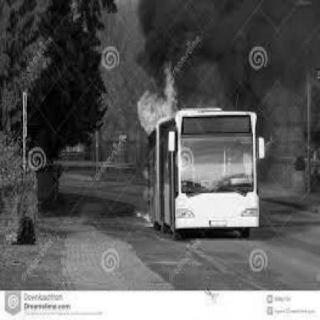Fire: (128, 64, 190, 132)
